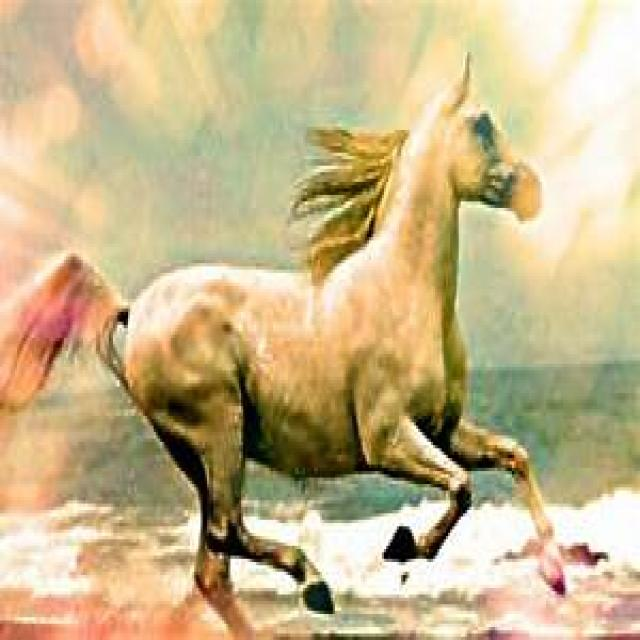horse: (105, 55, 559, 640)
